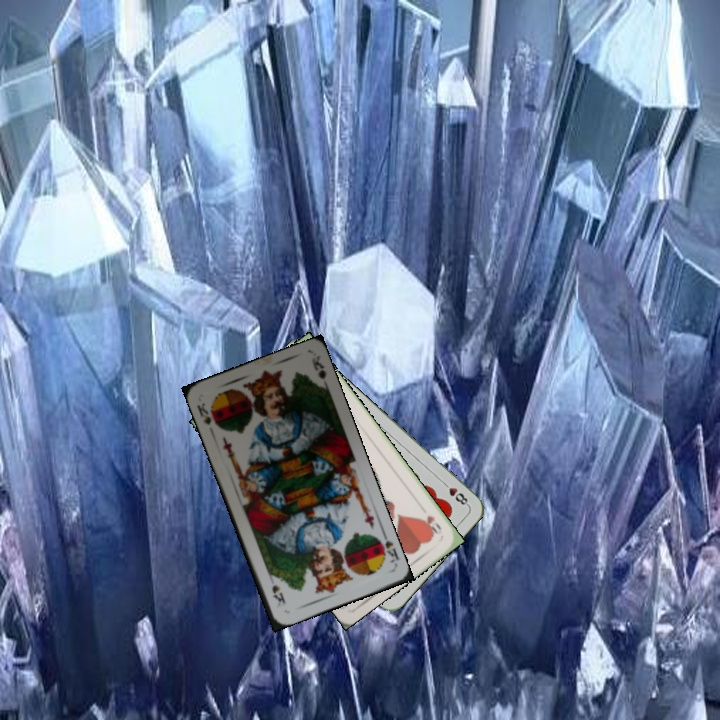H8: (438, 477, 471, 508)
HO: (419, 511, 444, 537)
SK: (371, 529, 401, 565), (193, 398, 214, 428)
